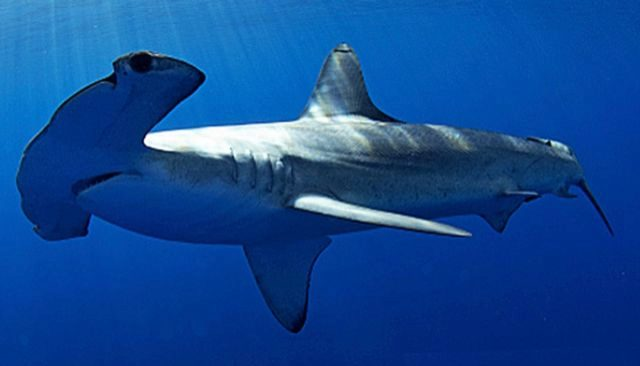Hammer: (22, 38, 524, 223)
